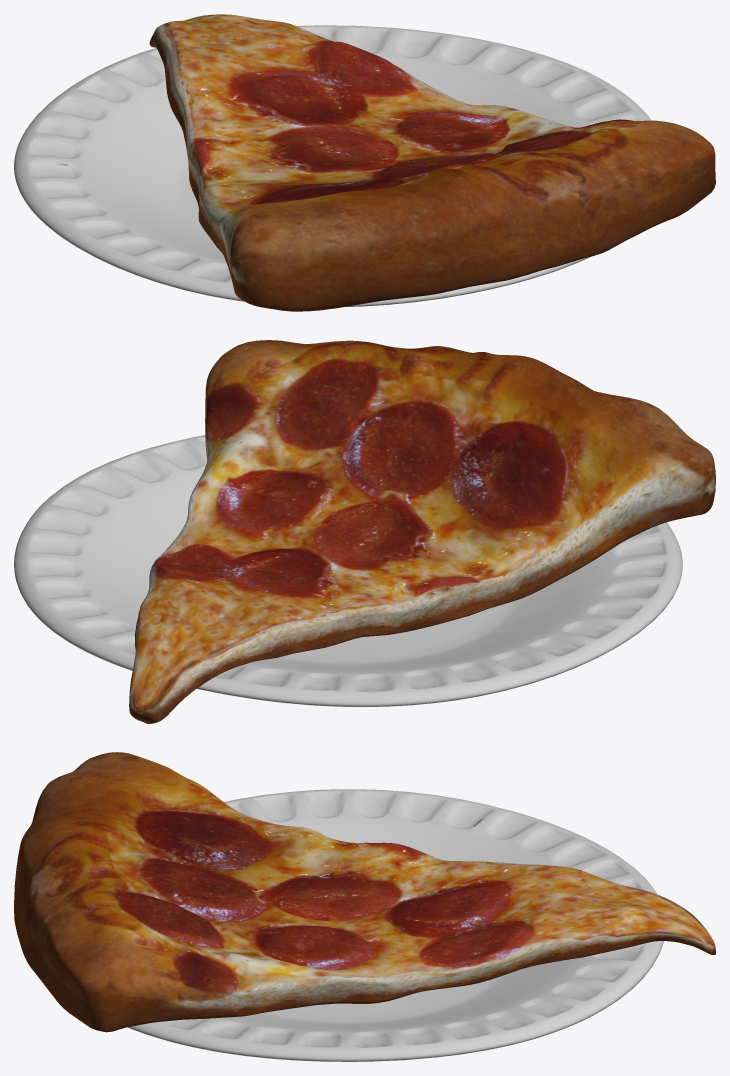
Rendered from PizzaSliceLP.fbx.
3 views of the same model, one above another, from view 1: azimuth 30°, elevation 25°; view 2: azimuth 150°, elevation 25°; view 3: azimuth 270°, elevation 25° (orthographic). The views are drawn at different scales.
Visible parts, largest first — view 1: PizzaSlice; view 2: PizzaSlice; view 3: PizzaSlice.
Part boxes in pixels (x1,y1,x2,y2): PizzaSlice: [14, 14, 715, 311]; PizzaSlice: [14, 340, 715, 723]; PizzaSlice: [14, 752, 715, 1061].
Size of the model in its own units: 1300 by 326 by 1436.
